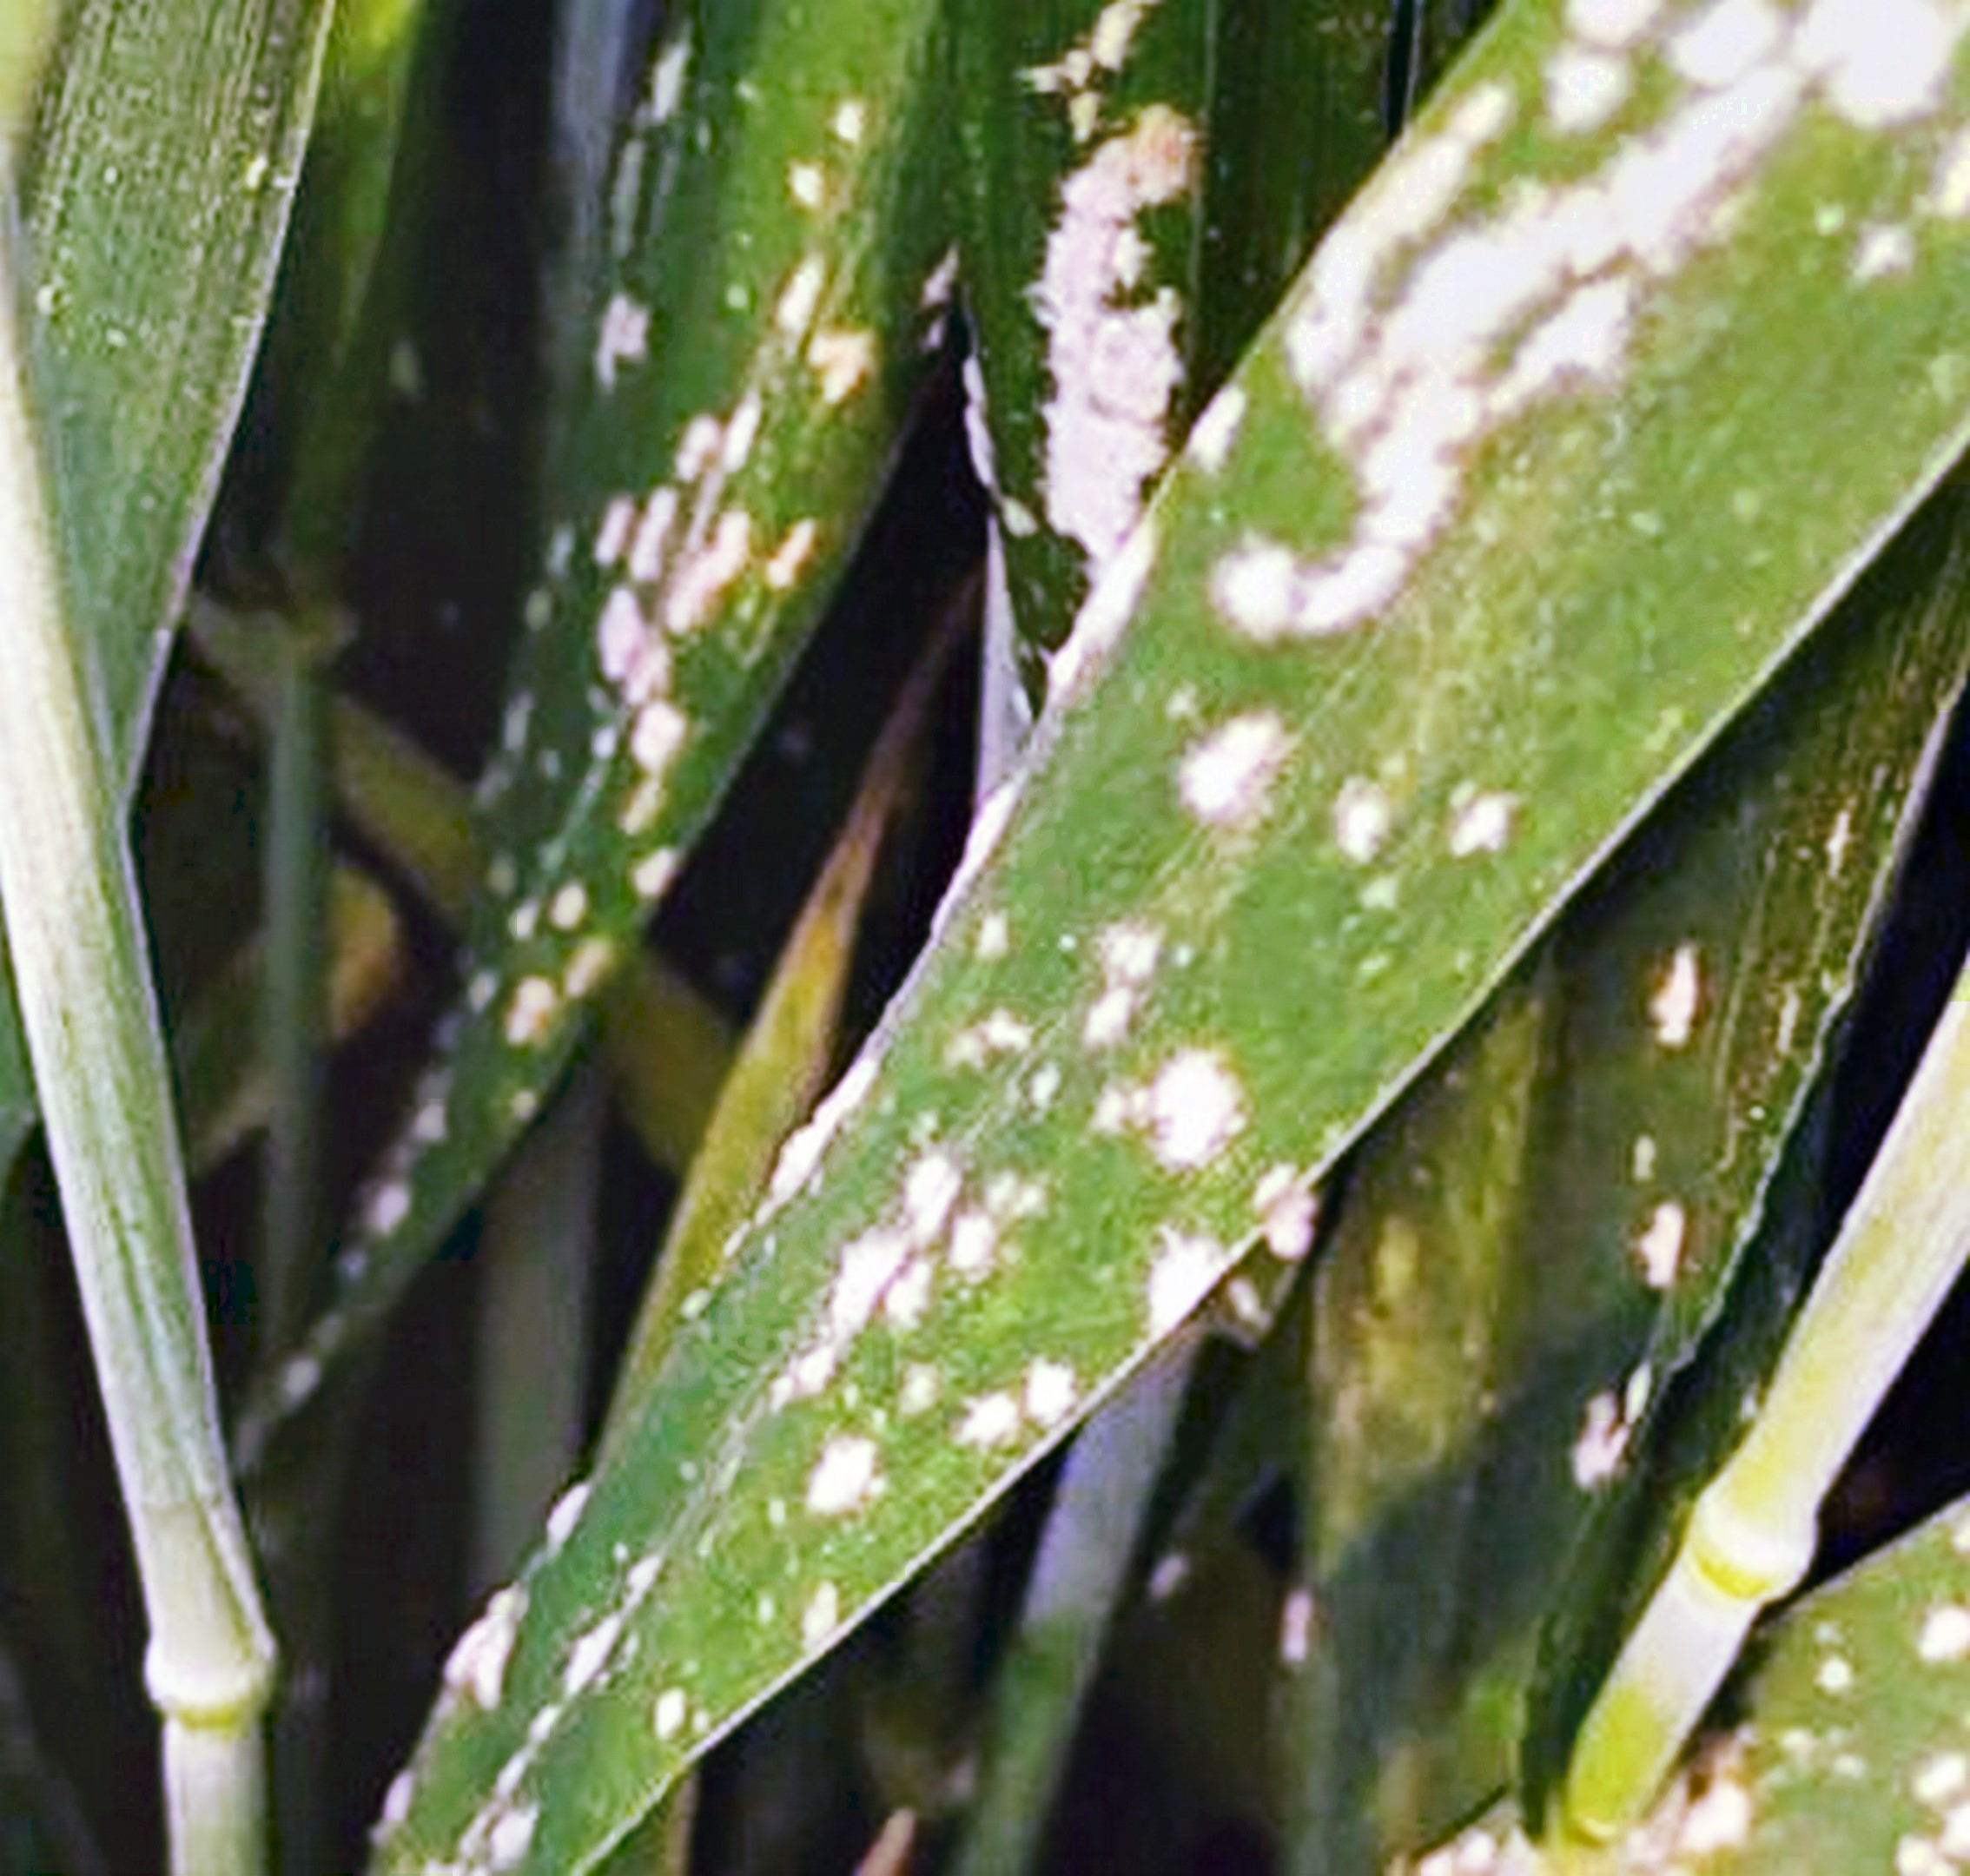Powdery Mildew: (390, 146, 1574, 1535)
